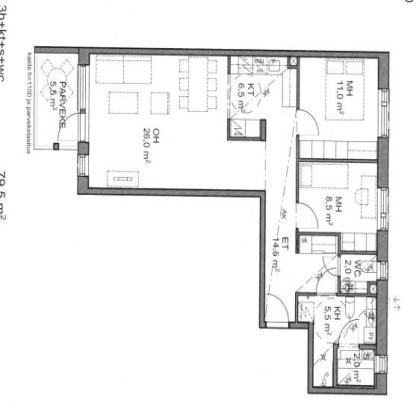bathroom: (298, 293, 377, 393), (338, 254, 380, 298)
door: (49, 109, 90, 152), (265, 290, 291, 332), (291, 108, 323, 141), (291, 201, 322, 235), (336, 318, 367, 352), (312, 265, 342, 298)
perimeter: (80, 47, 386, 394)
window: (374, 83, 394, 145), (73, 59, 94, 116), (372, 186, 394, 238), (71, 151, 96, 179), (369, 258, 392, 284), (371, 349, 391, 377)
